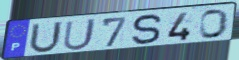4: (166, 11, 193, 42)
7: (101, 16, 129, 48)
O: (199, 8, 231, 40)
S: (131, 13, 164, 47)
U: (27, 20, 65, 55), (62, 17, 99, 52)
